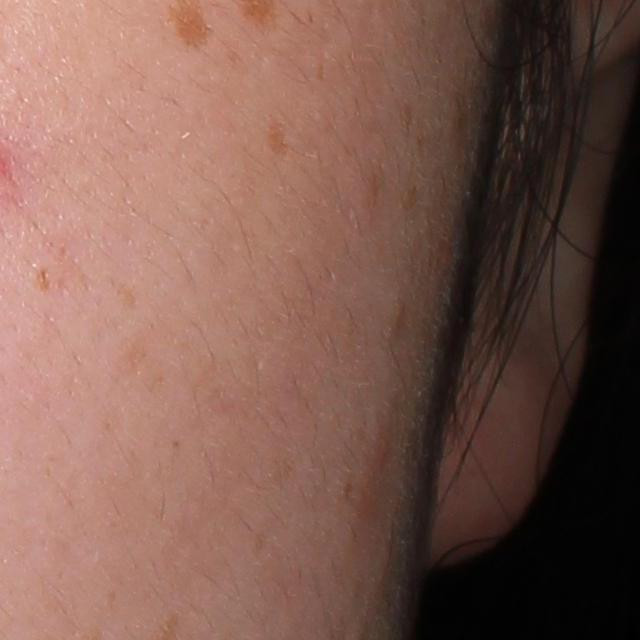melasma: (264, 114, 297, 166)
